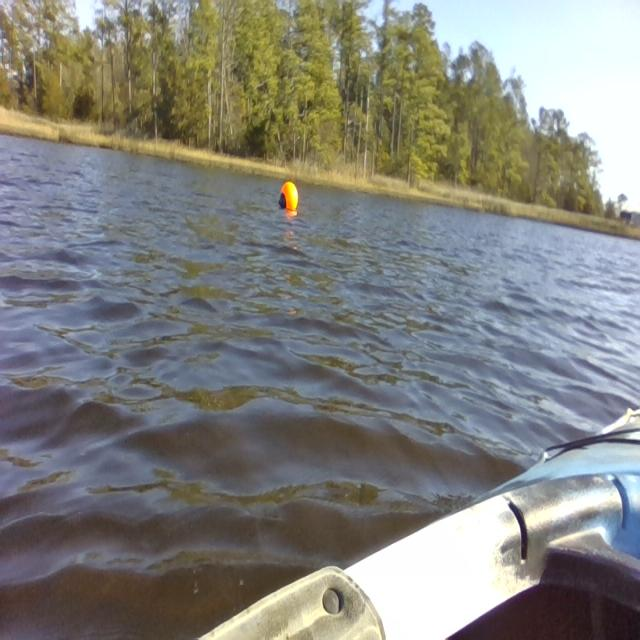Buoy: (276, 177, 301, 223)
